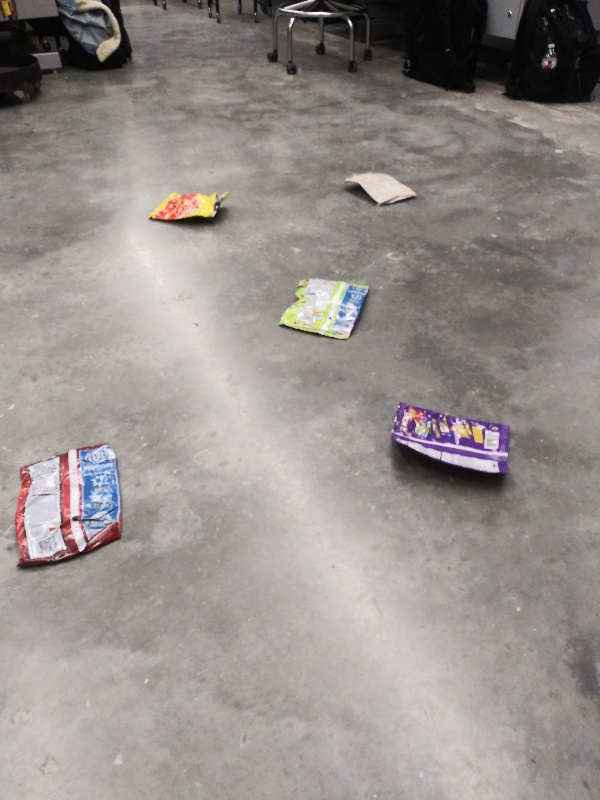bag: (11, 439, 125, 574), (382, 399, 517, 487), (277, 270, 380, 344), (145, 184, 239, 231), (337, 169, 424, 212)
bottle: (538, 39, 564, 73)
